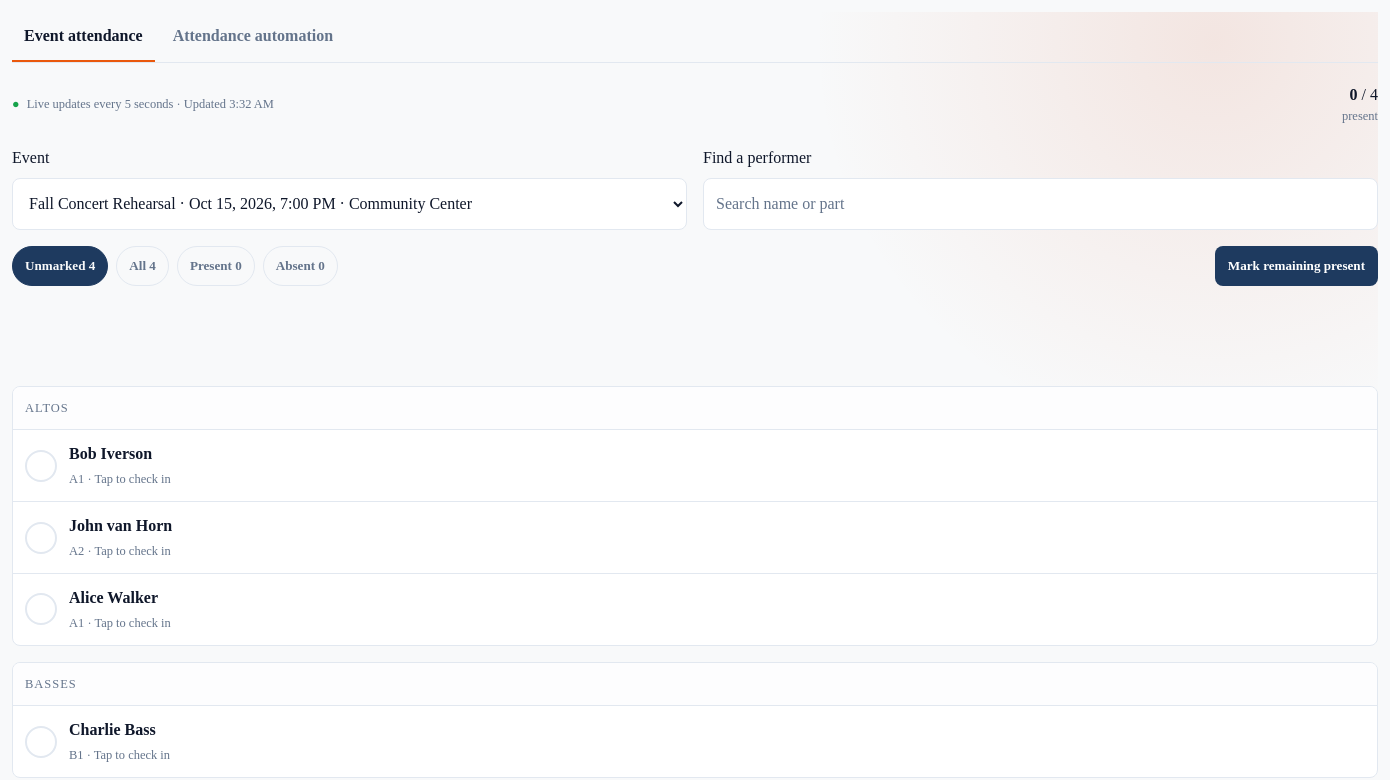
AttendanceManager section grouping and sorting UI › AttendanceManager Undo bar › clears undo history when switching events
This screenshot has width=1390, height=780.
Expected: the heading "Altos" is shown, [13,387,1377,430]
Click the button with aria-label "Alice Walker: Tap to check in. Tap to change.". click: (41, 609)
box: [13,574,1377,645]
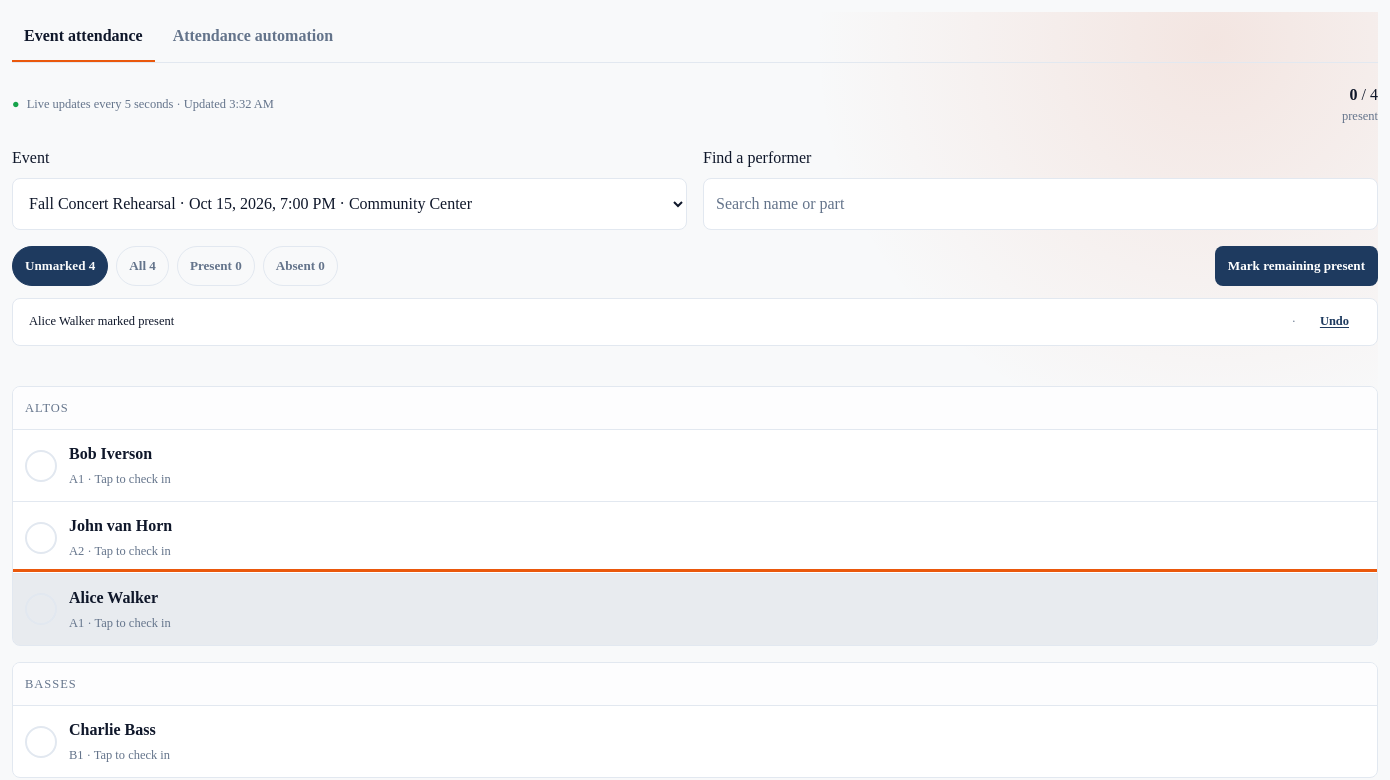
Expected: the text "Alice Walker marked present" is shown, [29,314,174,328]
Select "Spring Concert · Oct 15, 2026, 7:00 PM · Community Center" in the dropdown. click: (350, 204)
box: [12,178,687,230]
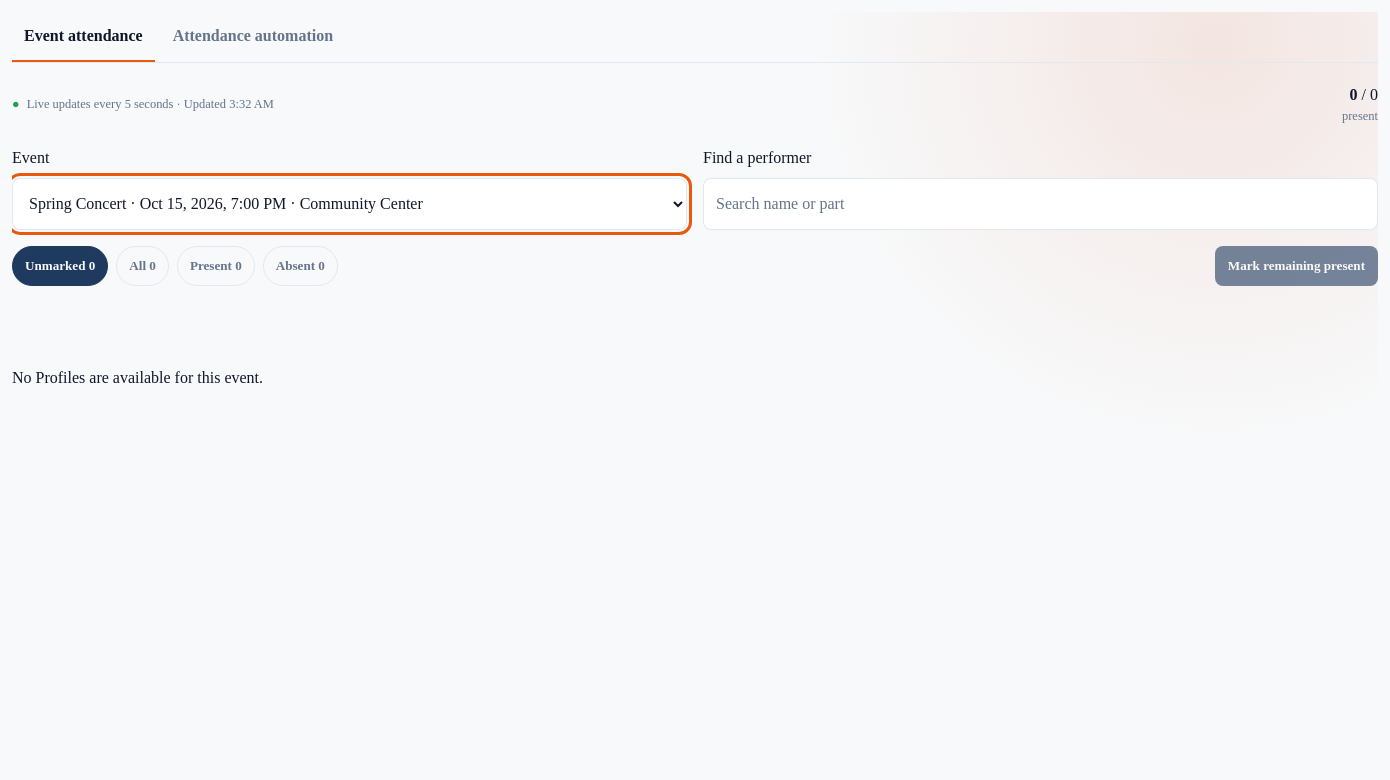
Expected: the button "Undo" is gone
